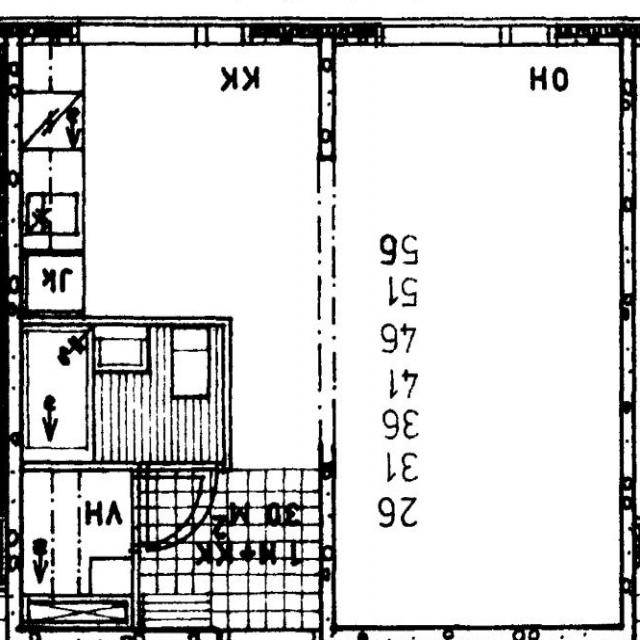door: (147, 462, 217, 550), (131, 478, 199, 545)
